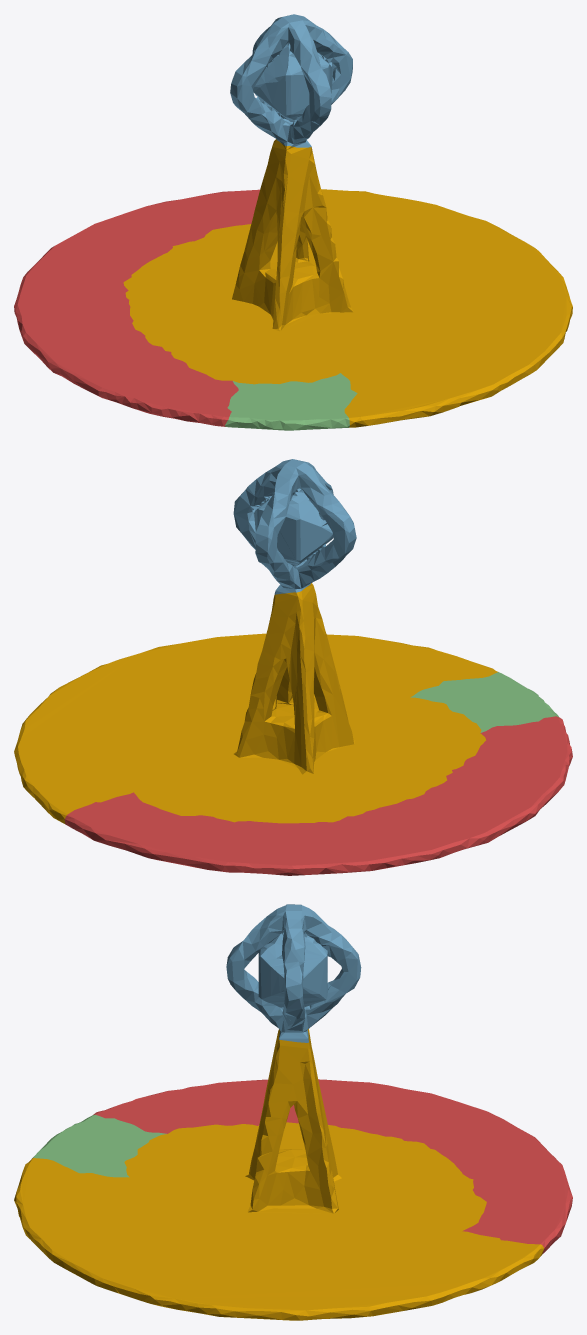
File: fractured_62_4pcs.glb
The picture shows the model from 3 angles, top to bottom: view 1: azimuth 30°, elevation 25°; view 2: azimuth 150°, elevation 25°; view 3: azimuth 270°, elevation 25°; orthographic projection.
Visible parts, largest first — view 1: piece_0.obj, piece_1.obj, piece_2.obj, piece_3.obj; view 2: piece_0.obj, piece_1.obj, piece_2.obj, piece_3.obj; view 3: piece_0.obj, piece_1.obj, piece_2.obj, piece_3.obj.
Part boxes in pixels (left/top/right/bottom): piece_0.obj: left=123, top=139, right=572, bottom=427; piece_1.obj: left=14, top=189, right=259, bottom=426; piece_2.obj: left=230, top=14, right=352, bottom=147; piece_3.obj: left=225, top=373, right=357, bottom=430; piece_0.obj: left=14, top=583, right=497, bottom=823; piece_1.obj: left=64, top=716, right=572, bottom=875; piece_2.obj: left=233, top=459, right=356, bottom=594; piece_3.obj: left=410, top=672, right=558, bottom=732; piece_0.obj: left=14, top=1029, right=544, bottom=1320; piece_1.obj: left=93, top=1079, right=572, bottom=1253; piece_2.obj: left=226, top=904, right=361, bottom=1042; piece_3.obj: left=32, top=1114, right=166, bottom=1177.
Size of the model in its own units: 0.9998 by 0.5841 by 1.
